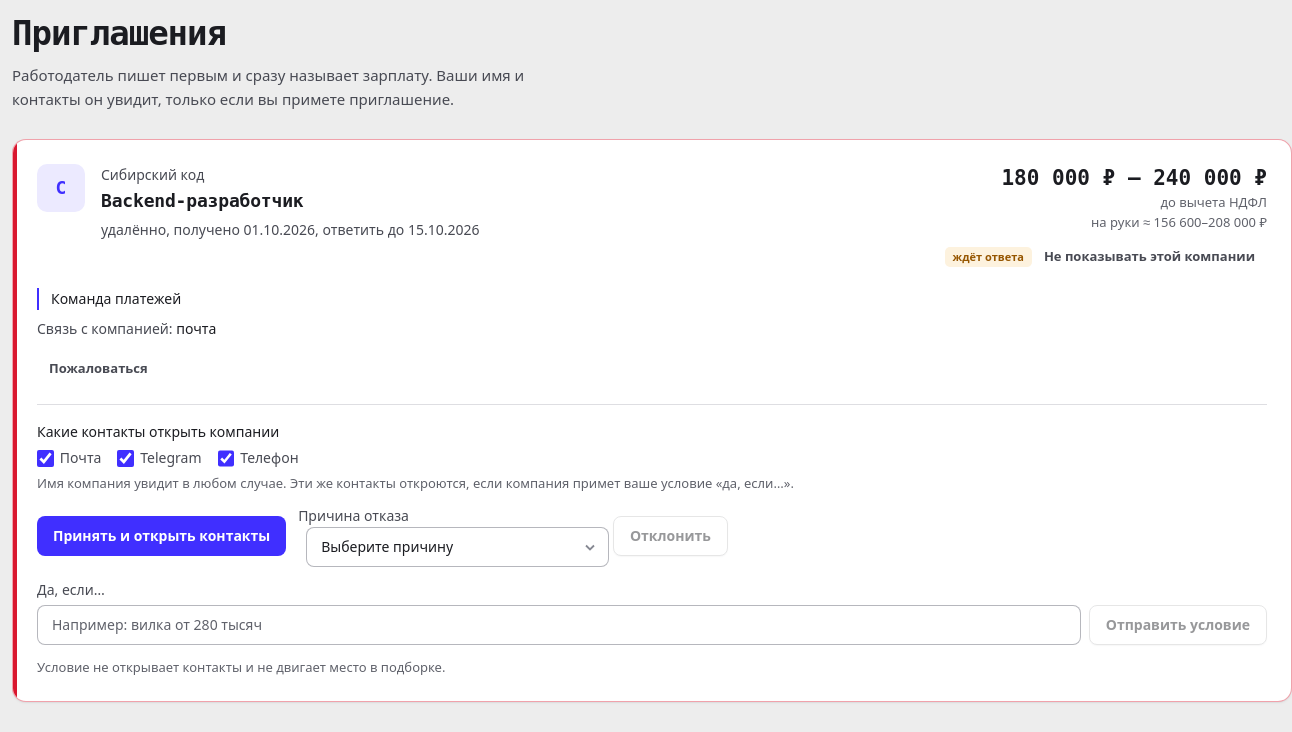
Scenario: какие контакты открыть › не принимает, если не выбран ни один способ связи
Click the checkbox labelled "Почта" at (45, 458), box [37,450,54,467]
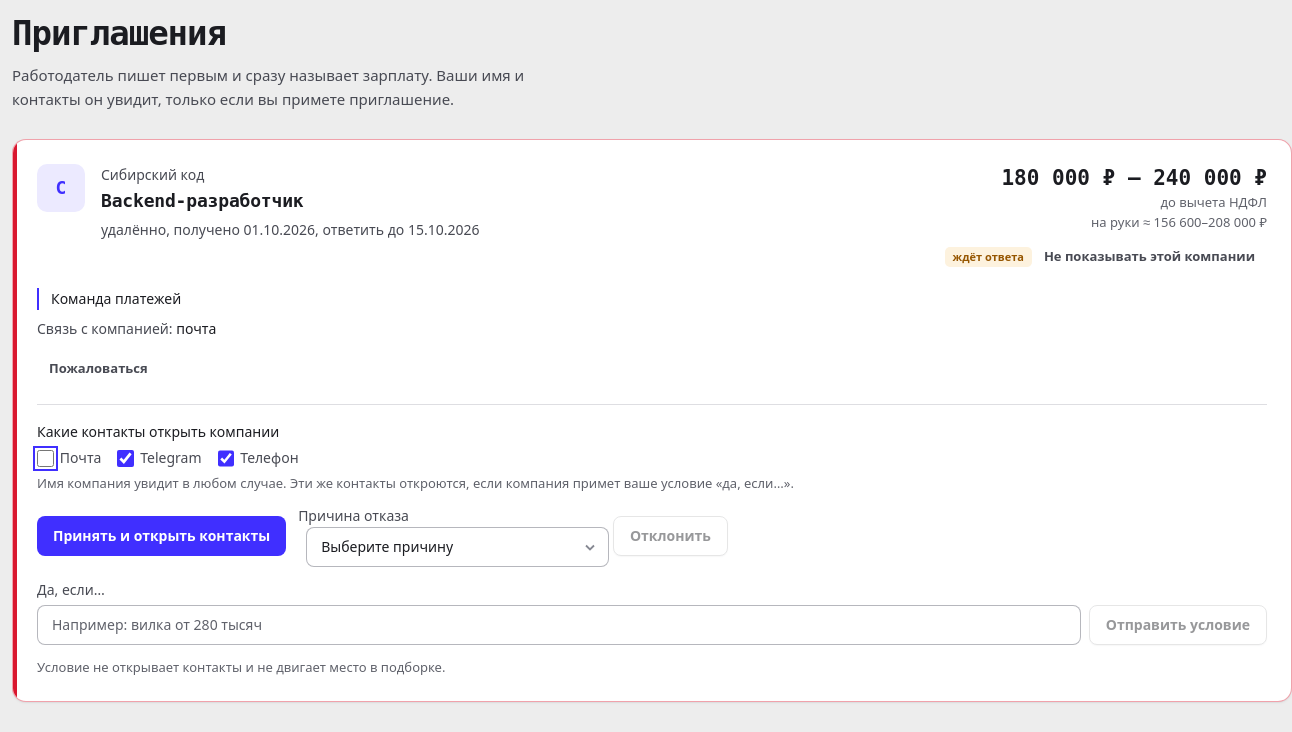
Click the checkbox labelled "Telegram" at (126, 458), box [118,450,134,467]
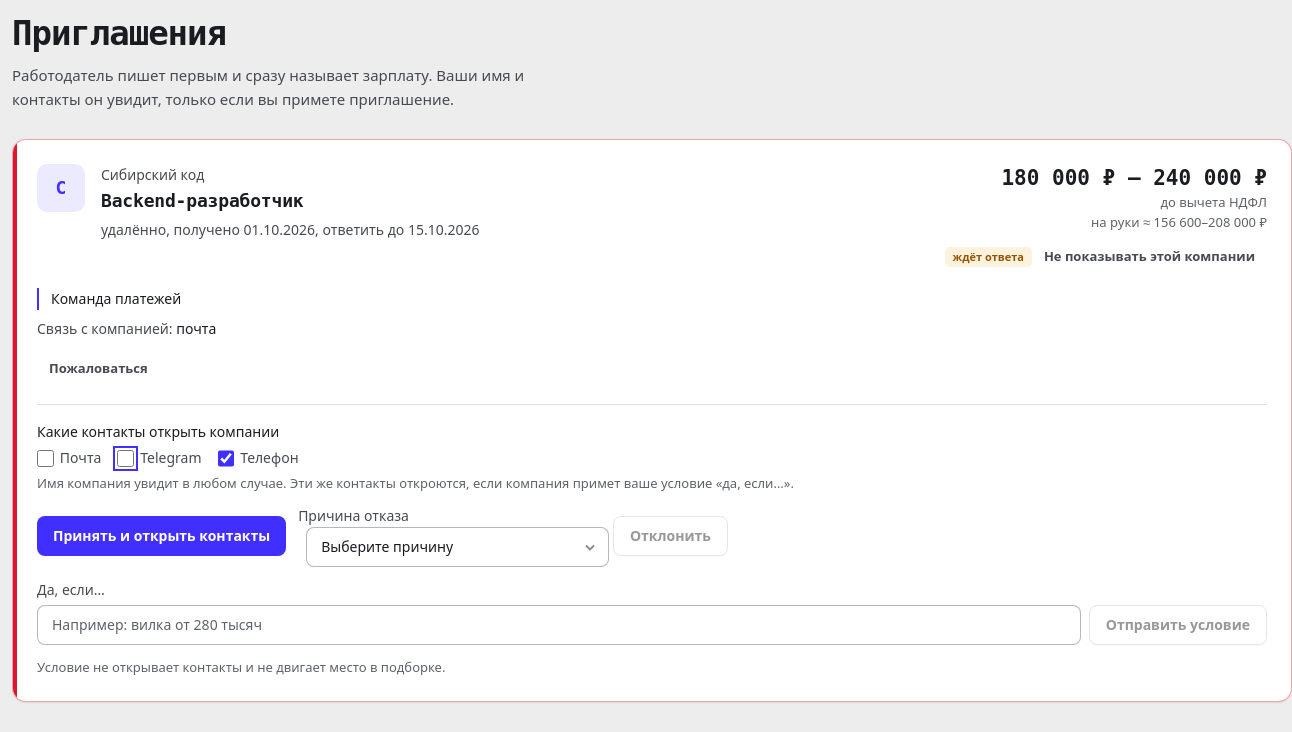
Click the checkbox labelled "Телефон" at (226, 458), box [218,450,234,467]
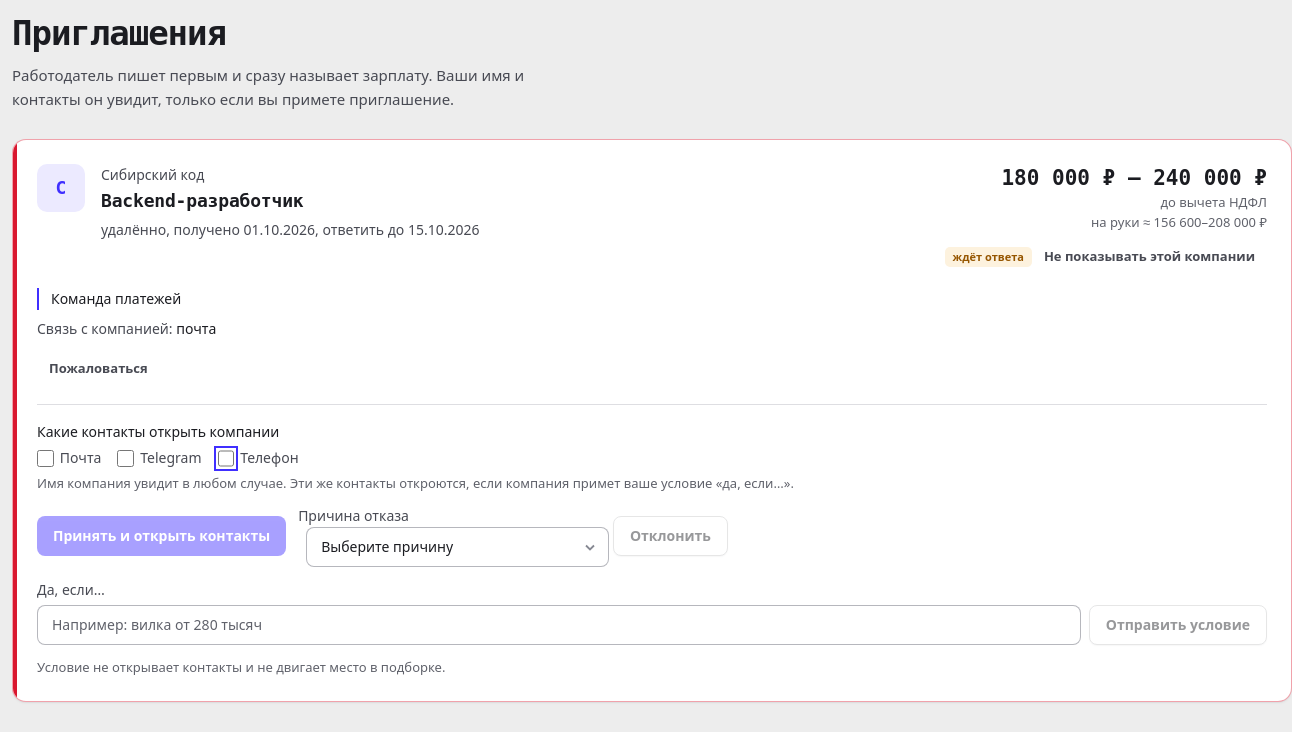
expect the button "Принять и открыть контакты" is disabled: met, box [37,516,286,556]
